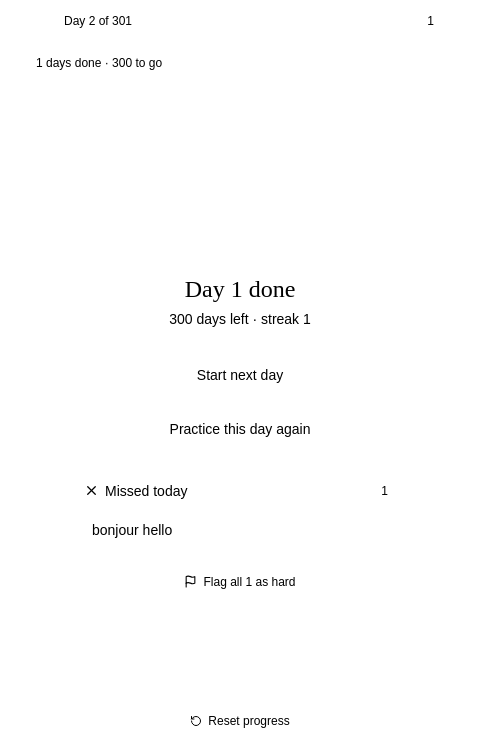
Test: marking words wrong in Anki › reopens on the Day-done screen with the list, and Start next day clears it
Expected: the text "Day 1 done" is shown, [185, 272, 295, 304]
Expected: the text "Missed today" is shown, [84, 480, 188, 500]
Click the button "Start next day": coordinates (240, 374) [173, 352, 307, 396]
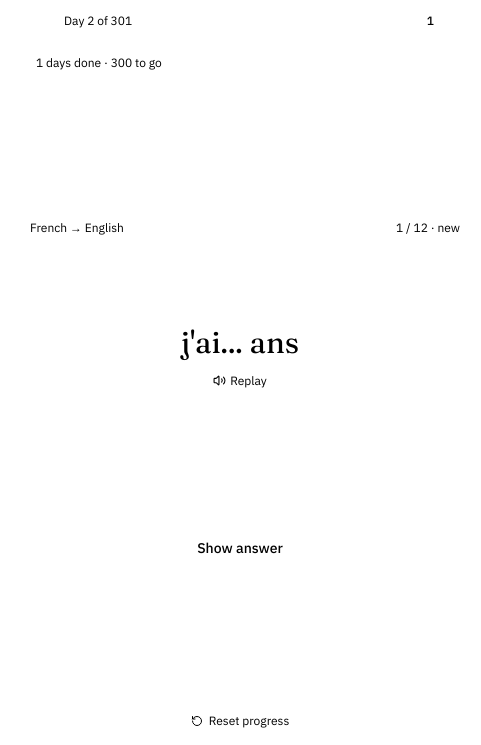
Expected: the button "Show answer" is shown, [16, 524, 464, 572]
